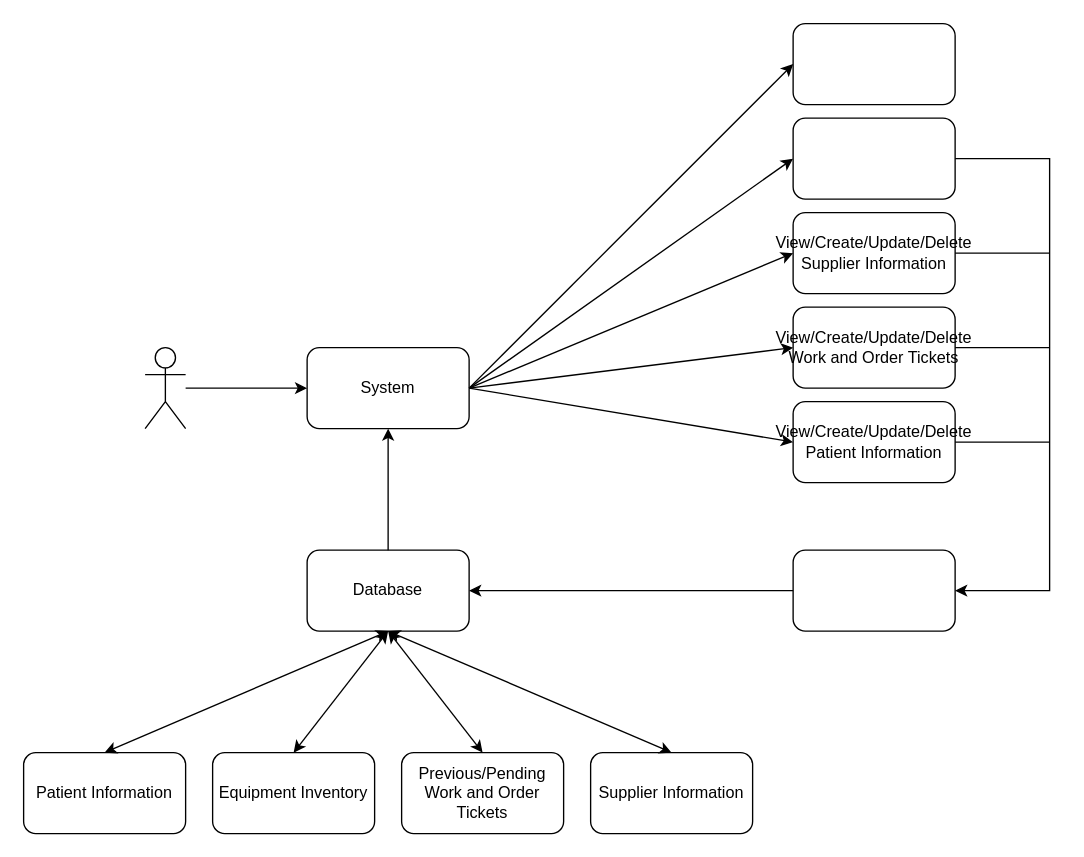
The diagram is 1084 pixels wide and 857 high, and some of its shapes have lost their labels. The shapes that lost their labels are listed below. From the top down, each one's centre as x and y in pixels, then its label:
At (873,63): "Print Work and Order Tickets".
At (873,158): "View/Create/Update/Delete Equipment in Inventory".
At (165,387): "User".
At (873,590): "Database Management Software".
